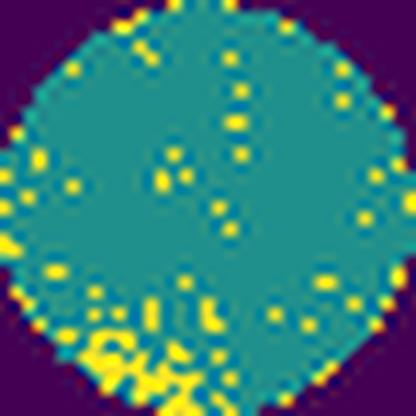Edge-Loc: (72, 323, 206, 416)
